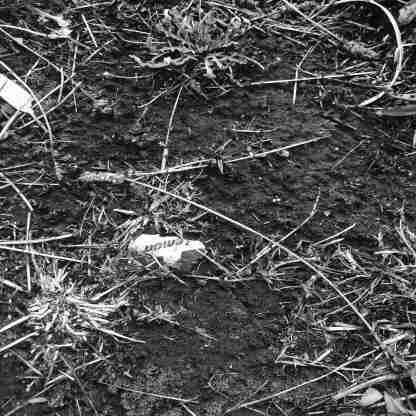plastic: (125, 229, 206, 272)
